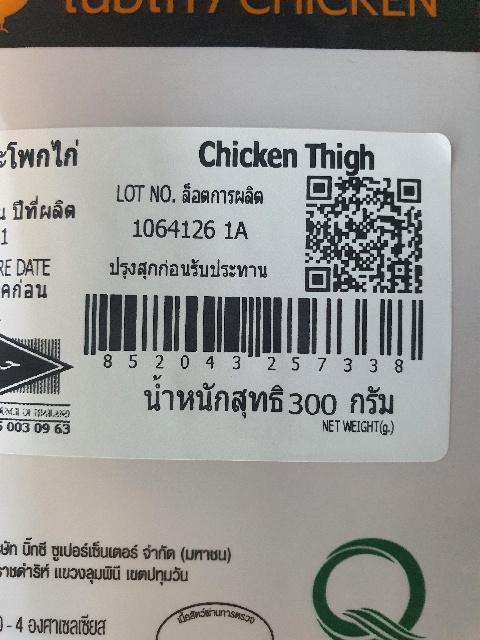Barcode: (75, 291, 435, 377)
